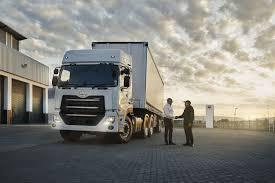Person: (177, 100, 195, 146), (163, 97, 175, 145)
Truck: (49, 41, 164, 143)
